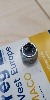Nut: (18, 42, 39, 63)
